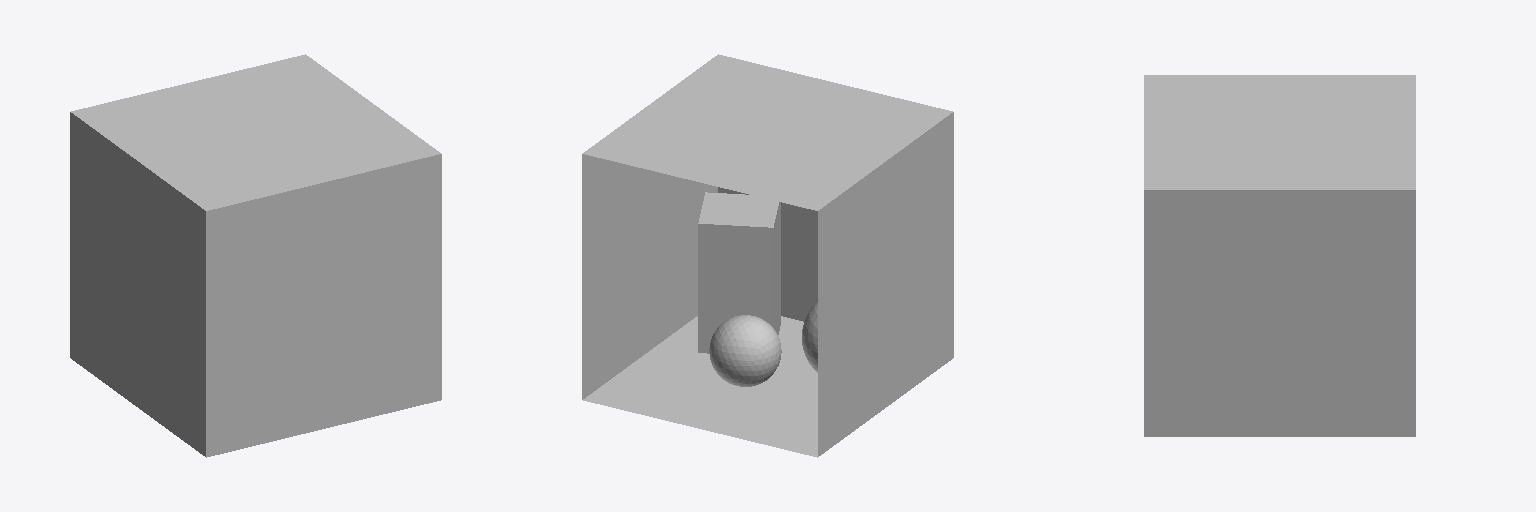
The model's file is room1h.obj.
The picture shows the model from 3 angles: view 1: azimuth 30°, elevation 25°; view 2: azimuth 150°, elevation 25°; view 3: azimuth 270°, elevation 25°; orthographic projection.
Visible parts, largest first — view 1: Box001; view 2: Box001; view 3: Box001.
Boxes of the visible parts, x1=… form: Box001: x1=70, y1=54, x2=441, y2=457; Box001: x1=582, y1=54, x2=953, y2=457; Box001: x1=1144, y1=75, x2=1415, y2=436.
Bounding box in the file's own units: 40 × 40 × 40.